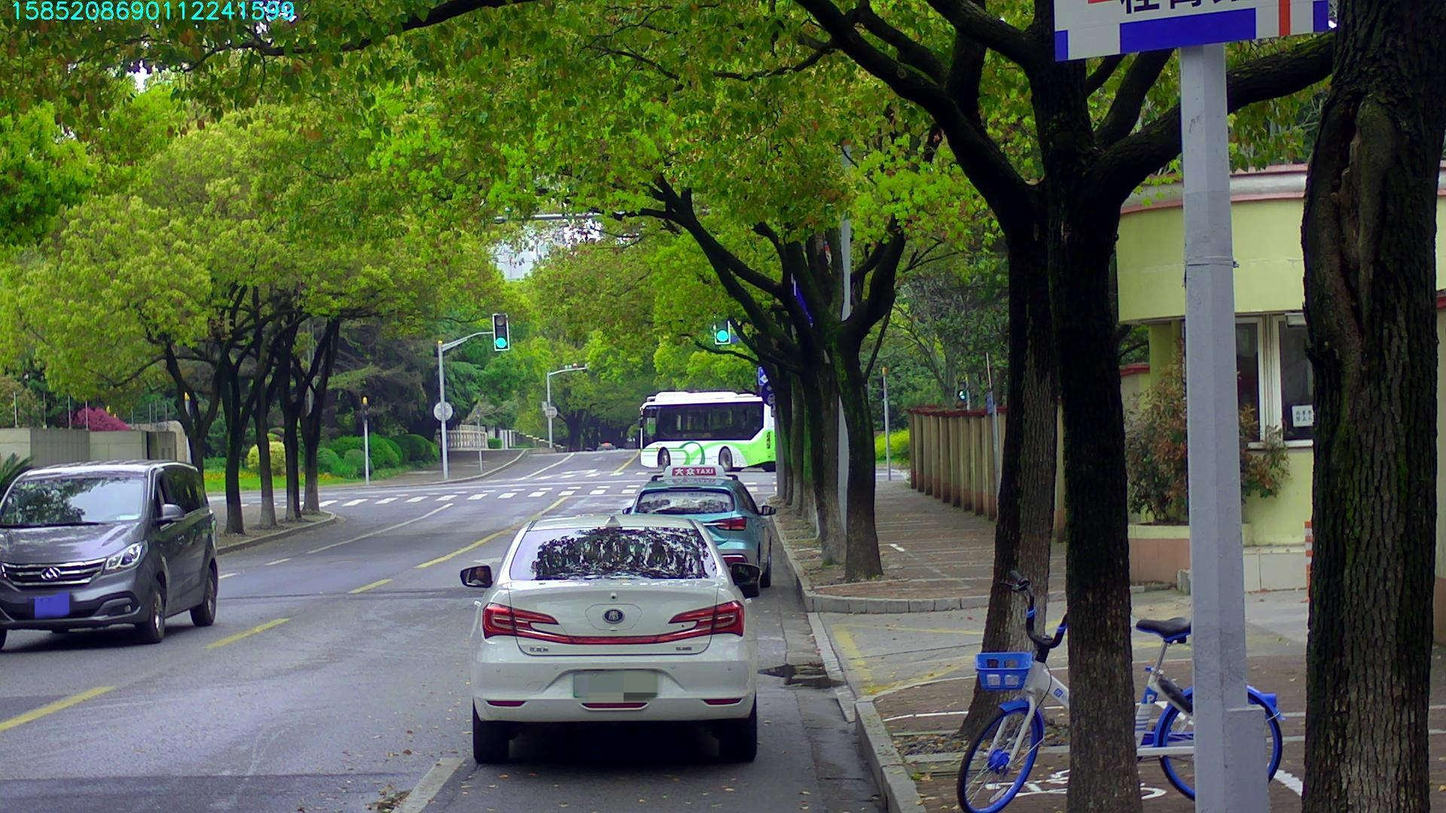green: (493, 313, 507, 349), (714, 314, 728, 343)
